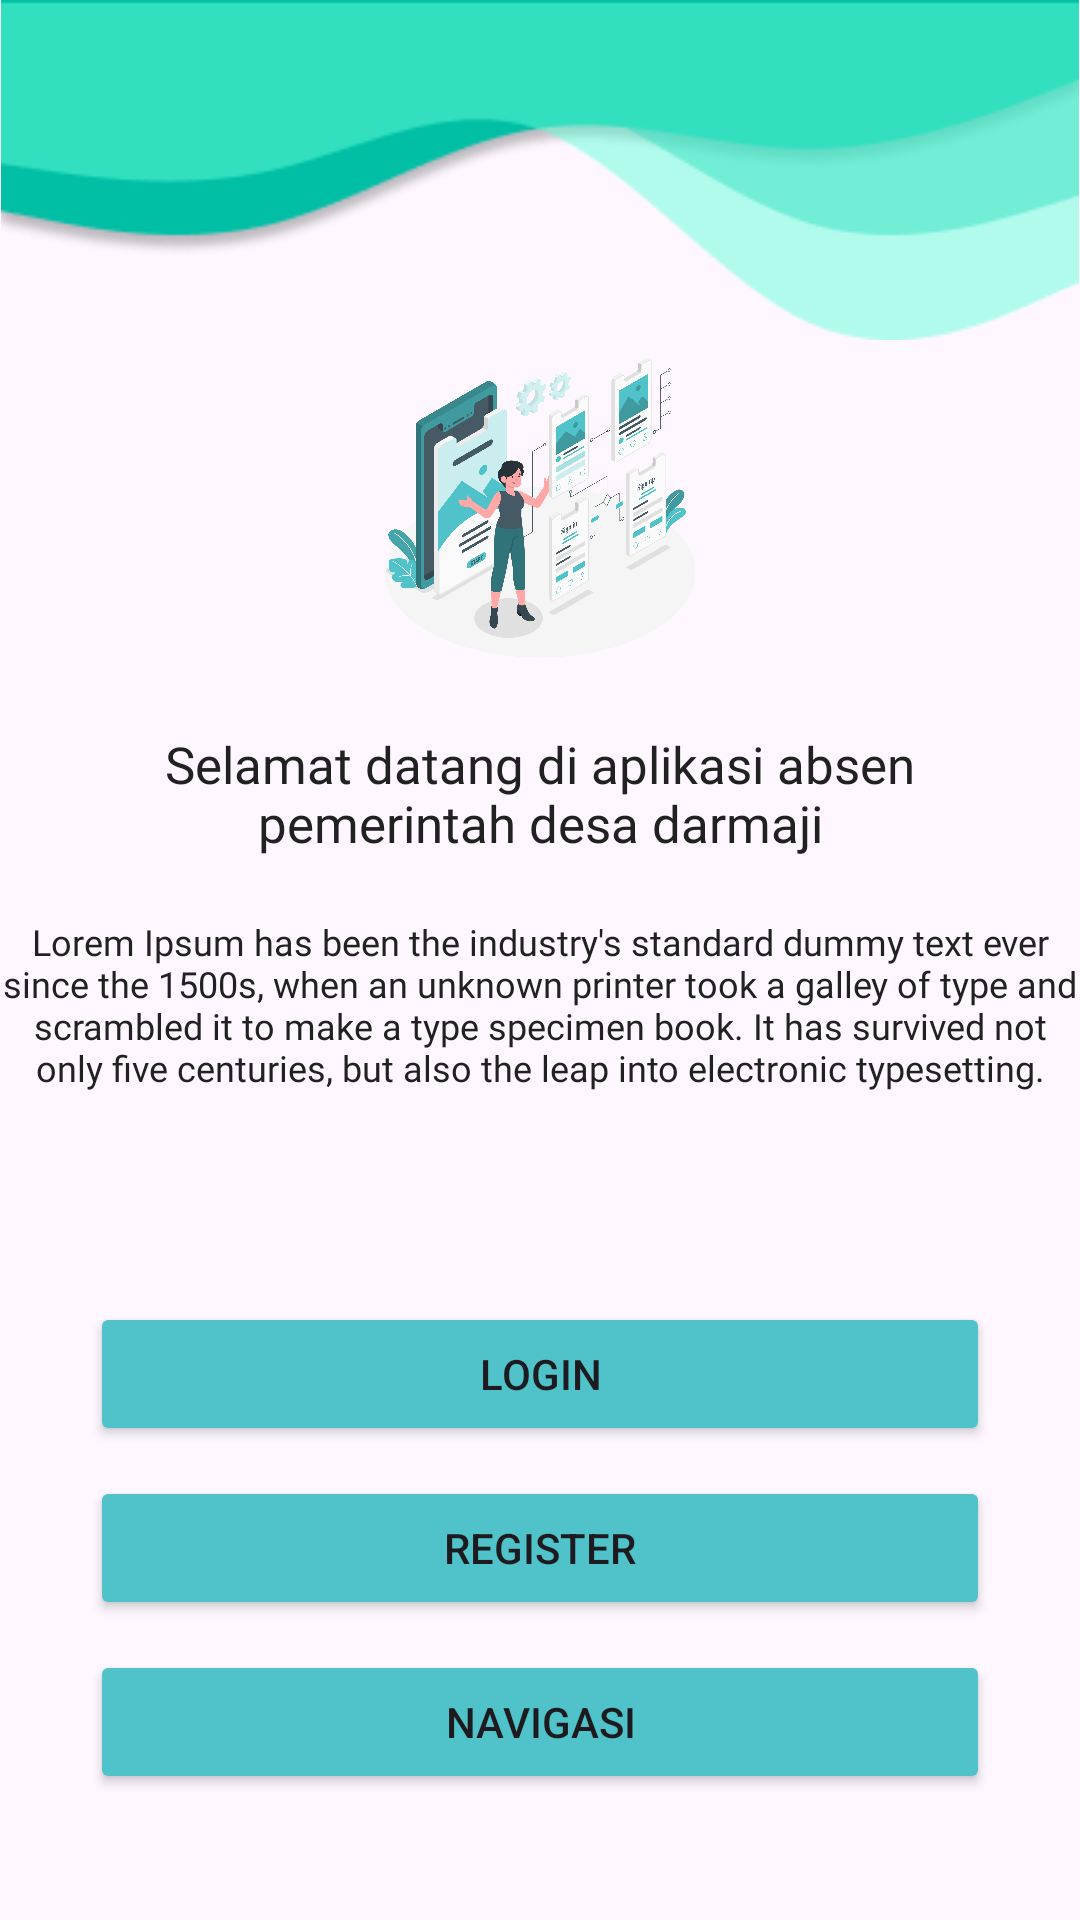

Icons on this 1080×1920 Android screen, each with its box as (x1, y1, x2, y2):
storyset userflow: (386, 360, 686, 638)
